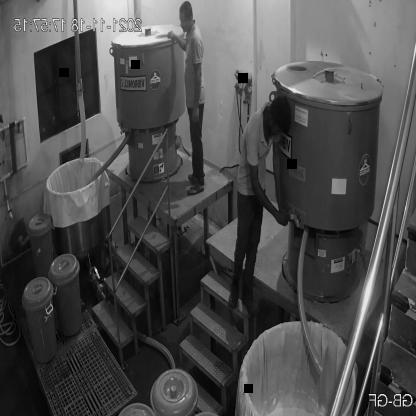no_glove: (250, 155, 284, 232), (186, 58, 202, 123)
no_shoes: (187, 182, 205, 196)
shoes: (227, 279, 241, 312)
